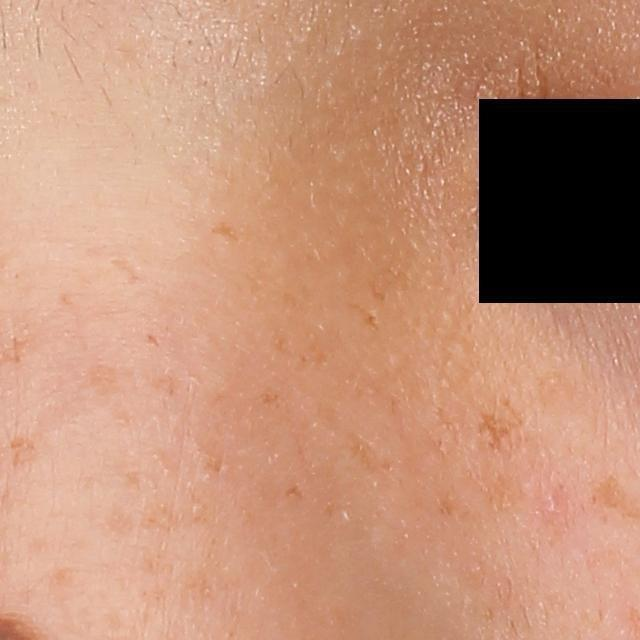melasma: (316, 399, 415, 484), (471, 392, 530, 451), (83, 362, 139, 406), (10, 433, 41, 468), (206, 221, 241, 244), (367, 279, 390, 303), (254, 388, 283, 407), (272, 328, 291, 356), (284, 483, 303, 499), (147, 333, 163, 349)
